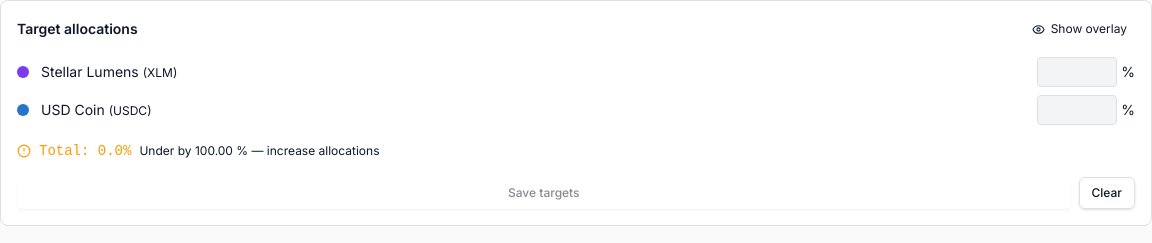
it: TargetAllocationEditor › Clear button resets the draft and store
Type "60" into the number field named "target allocation for stellar lumens" at (1077, 72), box left=1037, top=57, right=1117, bottom=87
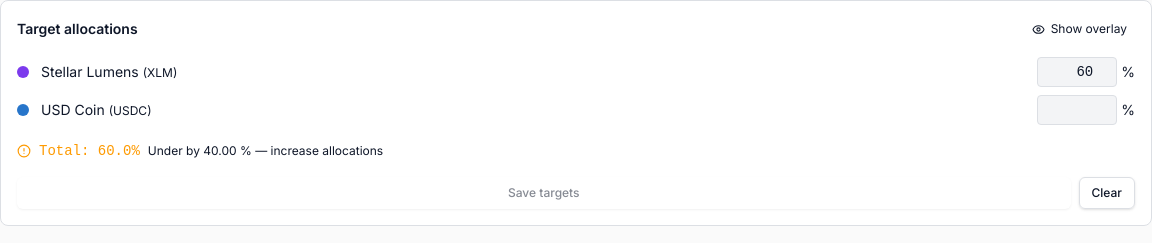
Click the button "Clear" at (1107, 193), box left=1078, top=177, right=1135, bottom=209
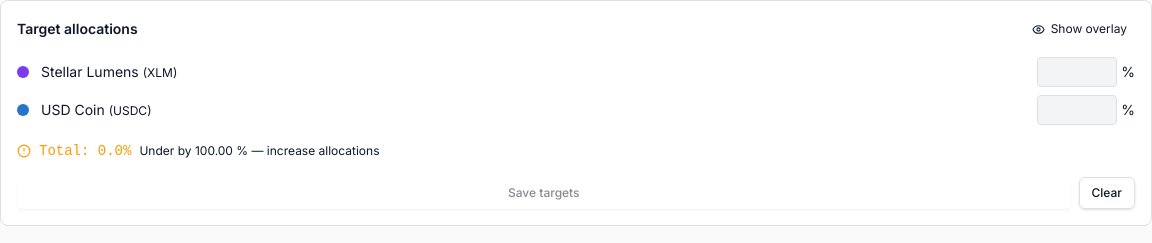
Expected: the number field named "target allocation for stellar lumens" is empty, left=1037, top=57, right=1117, bottom=87
